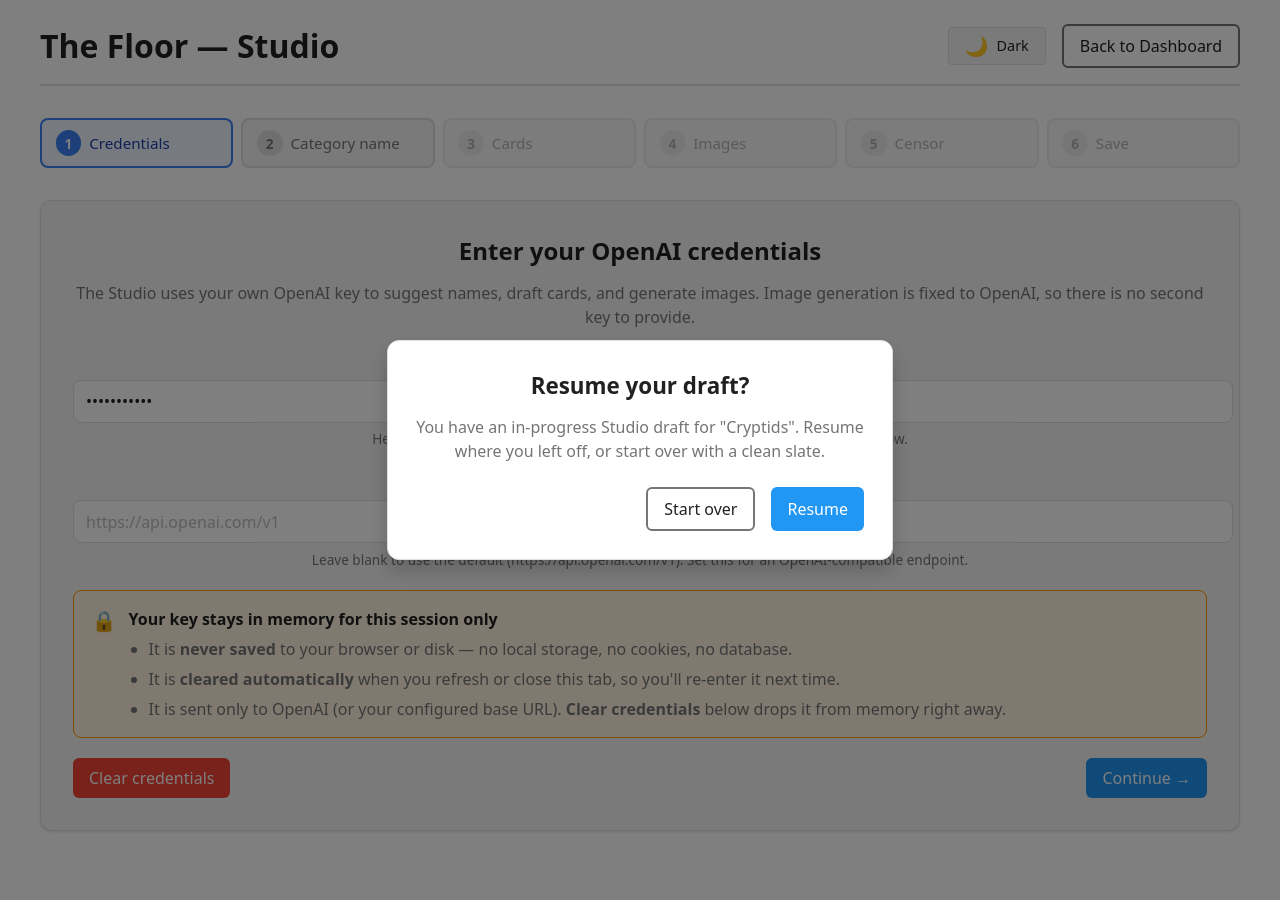
Studio page › Resume adopts the persisted draft (jumps to its step)
Click the button "Resume": point(818, 509) [772,487,864,531]
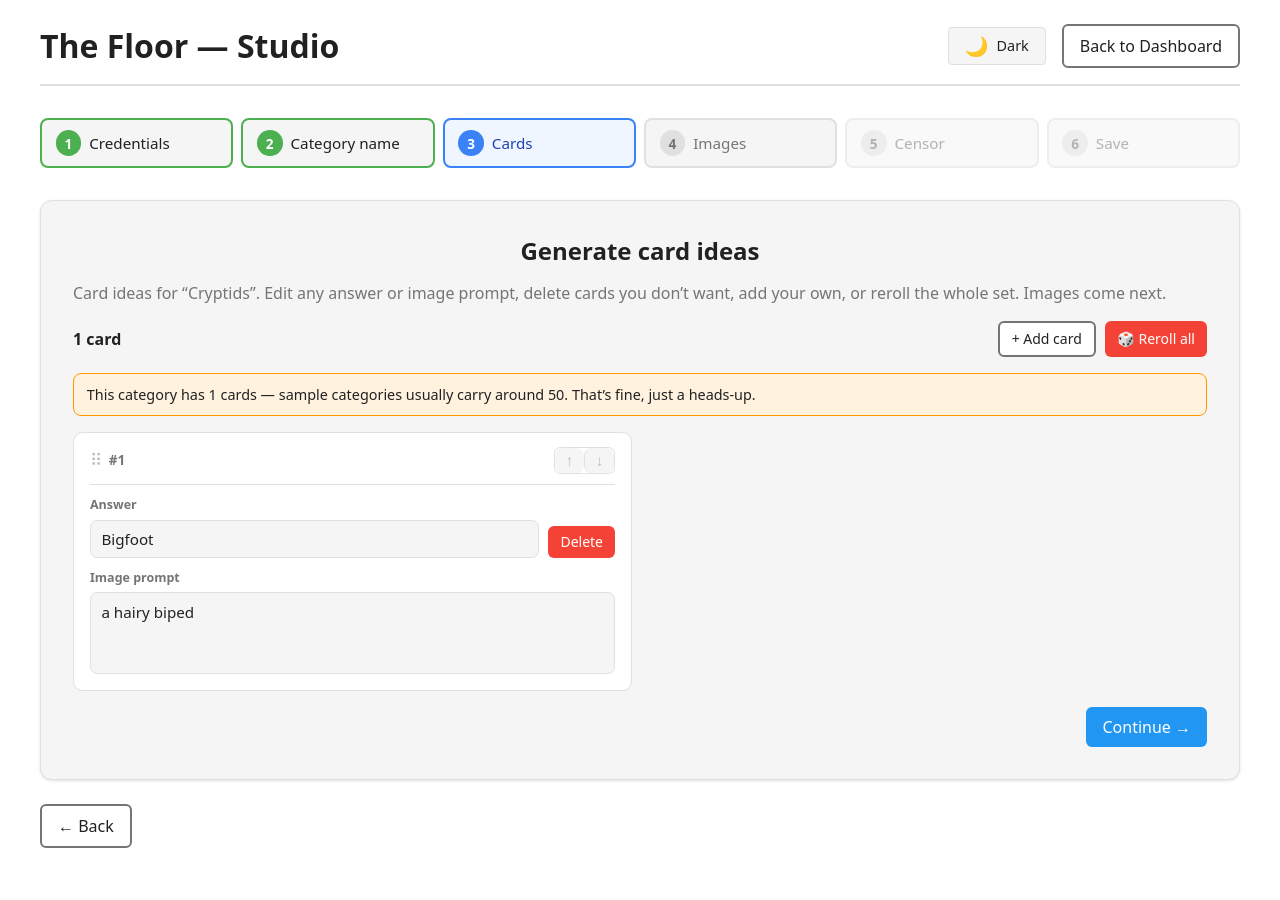
Now the heading "Resume your draft" is gone
Now the heading "Generate card ideas" is shown, box [520,234,760,267]
